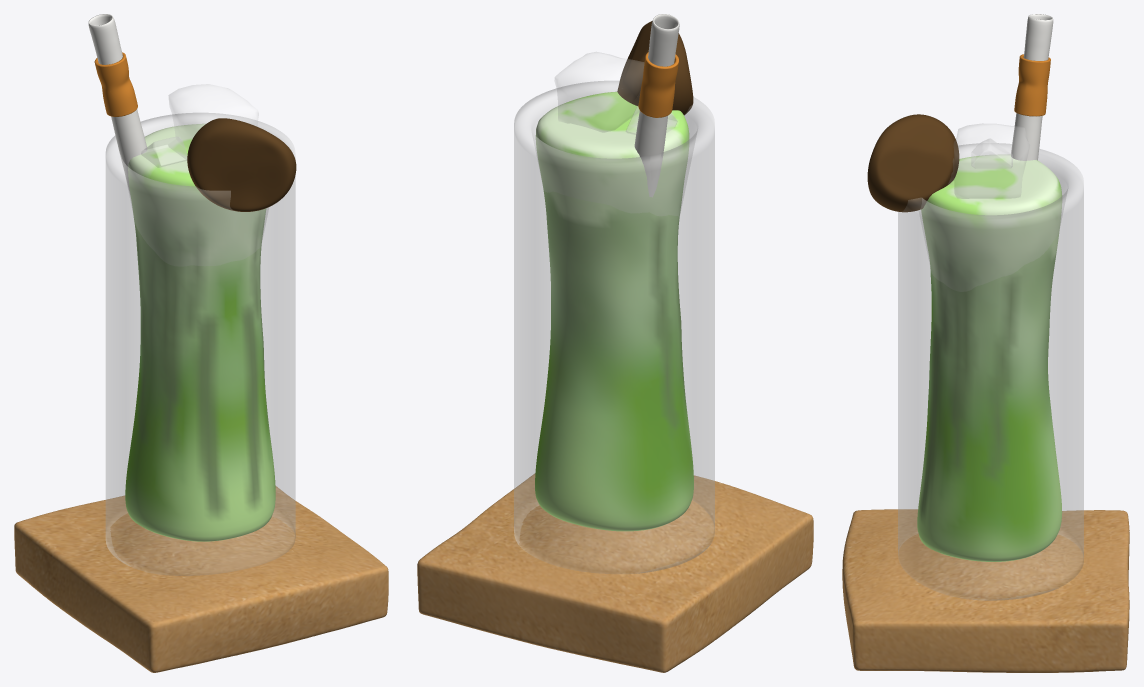
Rendered from smallblendermatcha.glb.
The picture shows the model from 3 angles, left to right: view 1: azimuth 30°, elevation 25°; view 2: azimuth 150°, elevation 25°; view 3: azimuth 270°, elevation 25°; orthographic projection. The views are drawn at different scales.
Visible parts, largest first — view 1: Glass, Liquid, Box, Cookie, Ice, Tube, Cylinder, Ice 2; view 2: Glass, Liquid, Box, Ice, Tube, Cookie, Cylinder; view 3: Glass, Liquid, Box, Cookie, Ice, Tube, Cylinder, Ice 2.
Boxes of the visible parts, box(x1,y1,x2,y2) form: Glass: box(106, 113, 295, 575); Liquid: box(125, 123, 275, 541); Box: box(14, 486, 388, 672); Cookie: box(187, 118, 296, 211); Ice: box(169, 84, 258, 149); Tube: box(88, 14, 147, 195); Cylinder: box(94, 52, 137, 116); Ice 2: box(141, 137, 187, 167); Glass: box(514, 81, 714, 573); Liquid: box(535, 91, 693, 531); Box: box(417, 473, 813, 672); Ice: box(554, 52, 643, 132); Tube: box(634, 14, 679, 197); Cookie: box(617, 21, 693, 115); Cylinder: box(638, 52, 678, 117); Glass: box(898, 143, 1083, 600); Liquid: box(917, 154, 1062, 561); Box: box(842, 509, 1129, 672); Cookie: box(867, 114, 959, 212); Ice: box(948, 123, 1029, 198); Tube: box(1011, 14, 1053, 160); Cylinder: box(1014, 54, 1050, 116); Ice 2: box(971, 138, 1012, 167).
Bounding box in the file's own units: 1.5 × 3.48 × 1.57.
